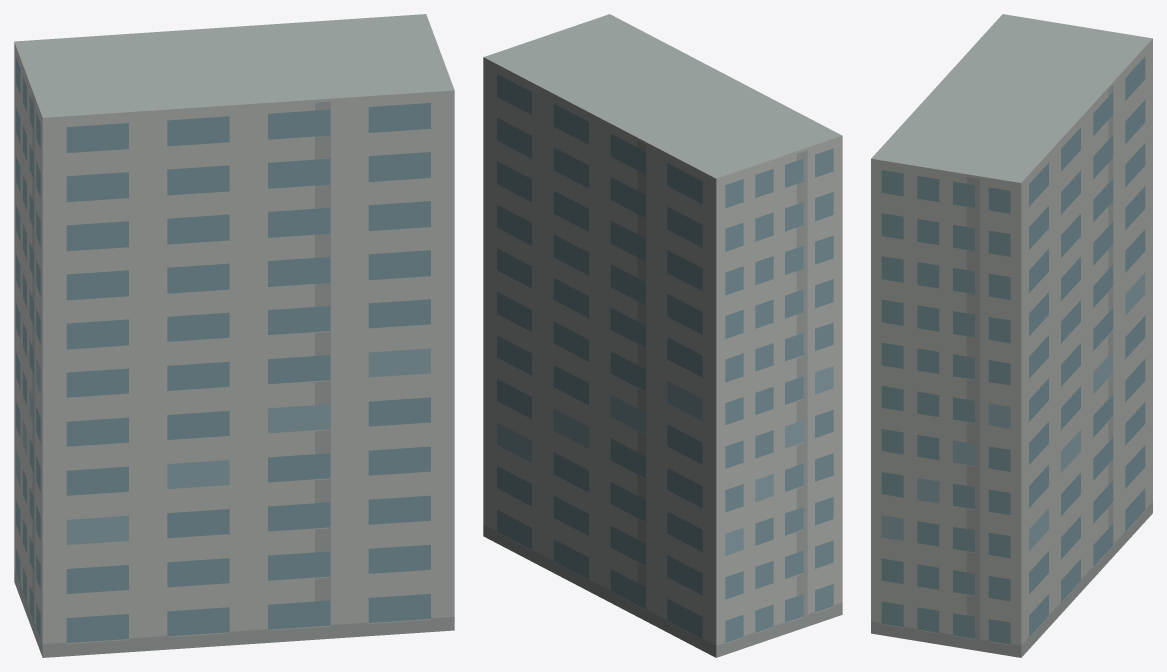
Rendered from residential-62c29535-2f8c-40a2-b114-9696b53af4f0.glb.
3 views of the same model, side by side, from view 1: azimuth 30°, elevation 25°; view 2: azimuth 150°, elevation 25°; view 3: azimuth 270°, elevation 25° (orthographic). The views are drawn at different scales.
Visible parts, largest first — view 1: residential-62c29535-2f8c-40a2-b114-9696b53af4f0.tmp; view 2: residential-62c29535-2f8c-40a2-b114-9696b53af4f0.tmp; view 3: residential-62c29535-2f8c-40a2-b114-9696b53af4f0.tmp.
Boxes of the visible parts, x1,y1,x2,y2 form: residential-62c29535-2f8c-40a2-b114-9696b53af4f0.tmp: [14, 14, 454, 657]; residential-62c29535-2f8c-40a2-b114-9696b53af4f0.tmp: [483, 14, 842, 657]; residential-62c29535-2f8c-40a2-b114-9696b53af4f0.tmp: [871, 14, 1152, 657].
Size of the model in its own units: 33.61 by 44 by 23.68.
